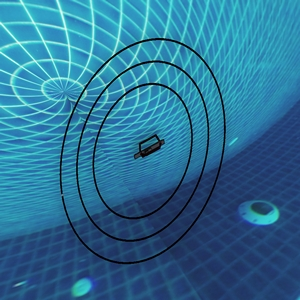circle: (56, 44, 238, 267)
